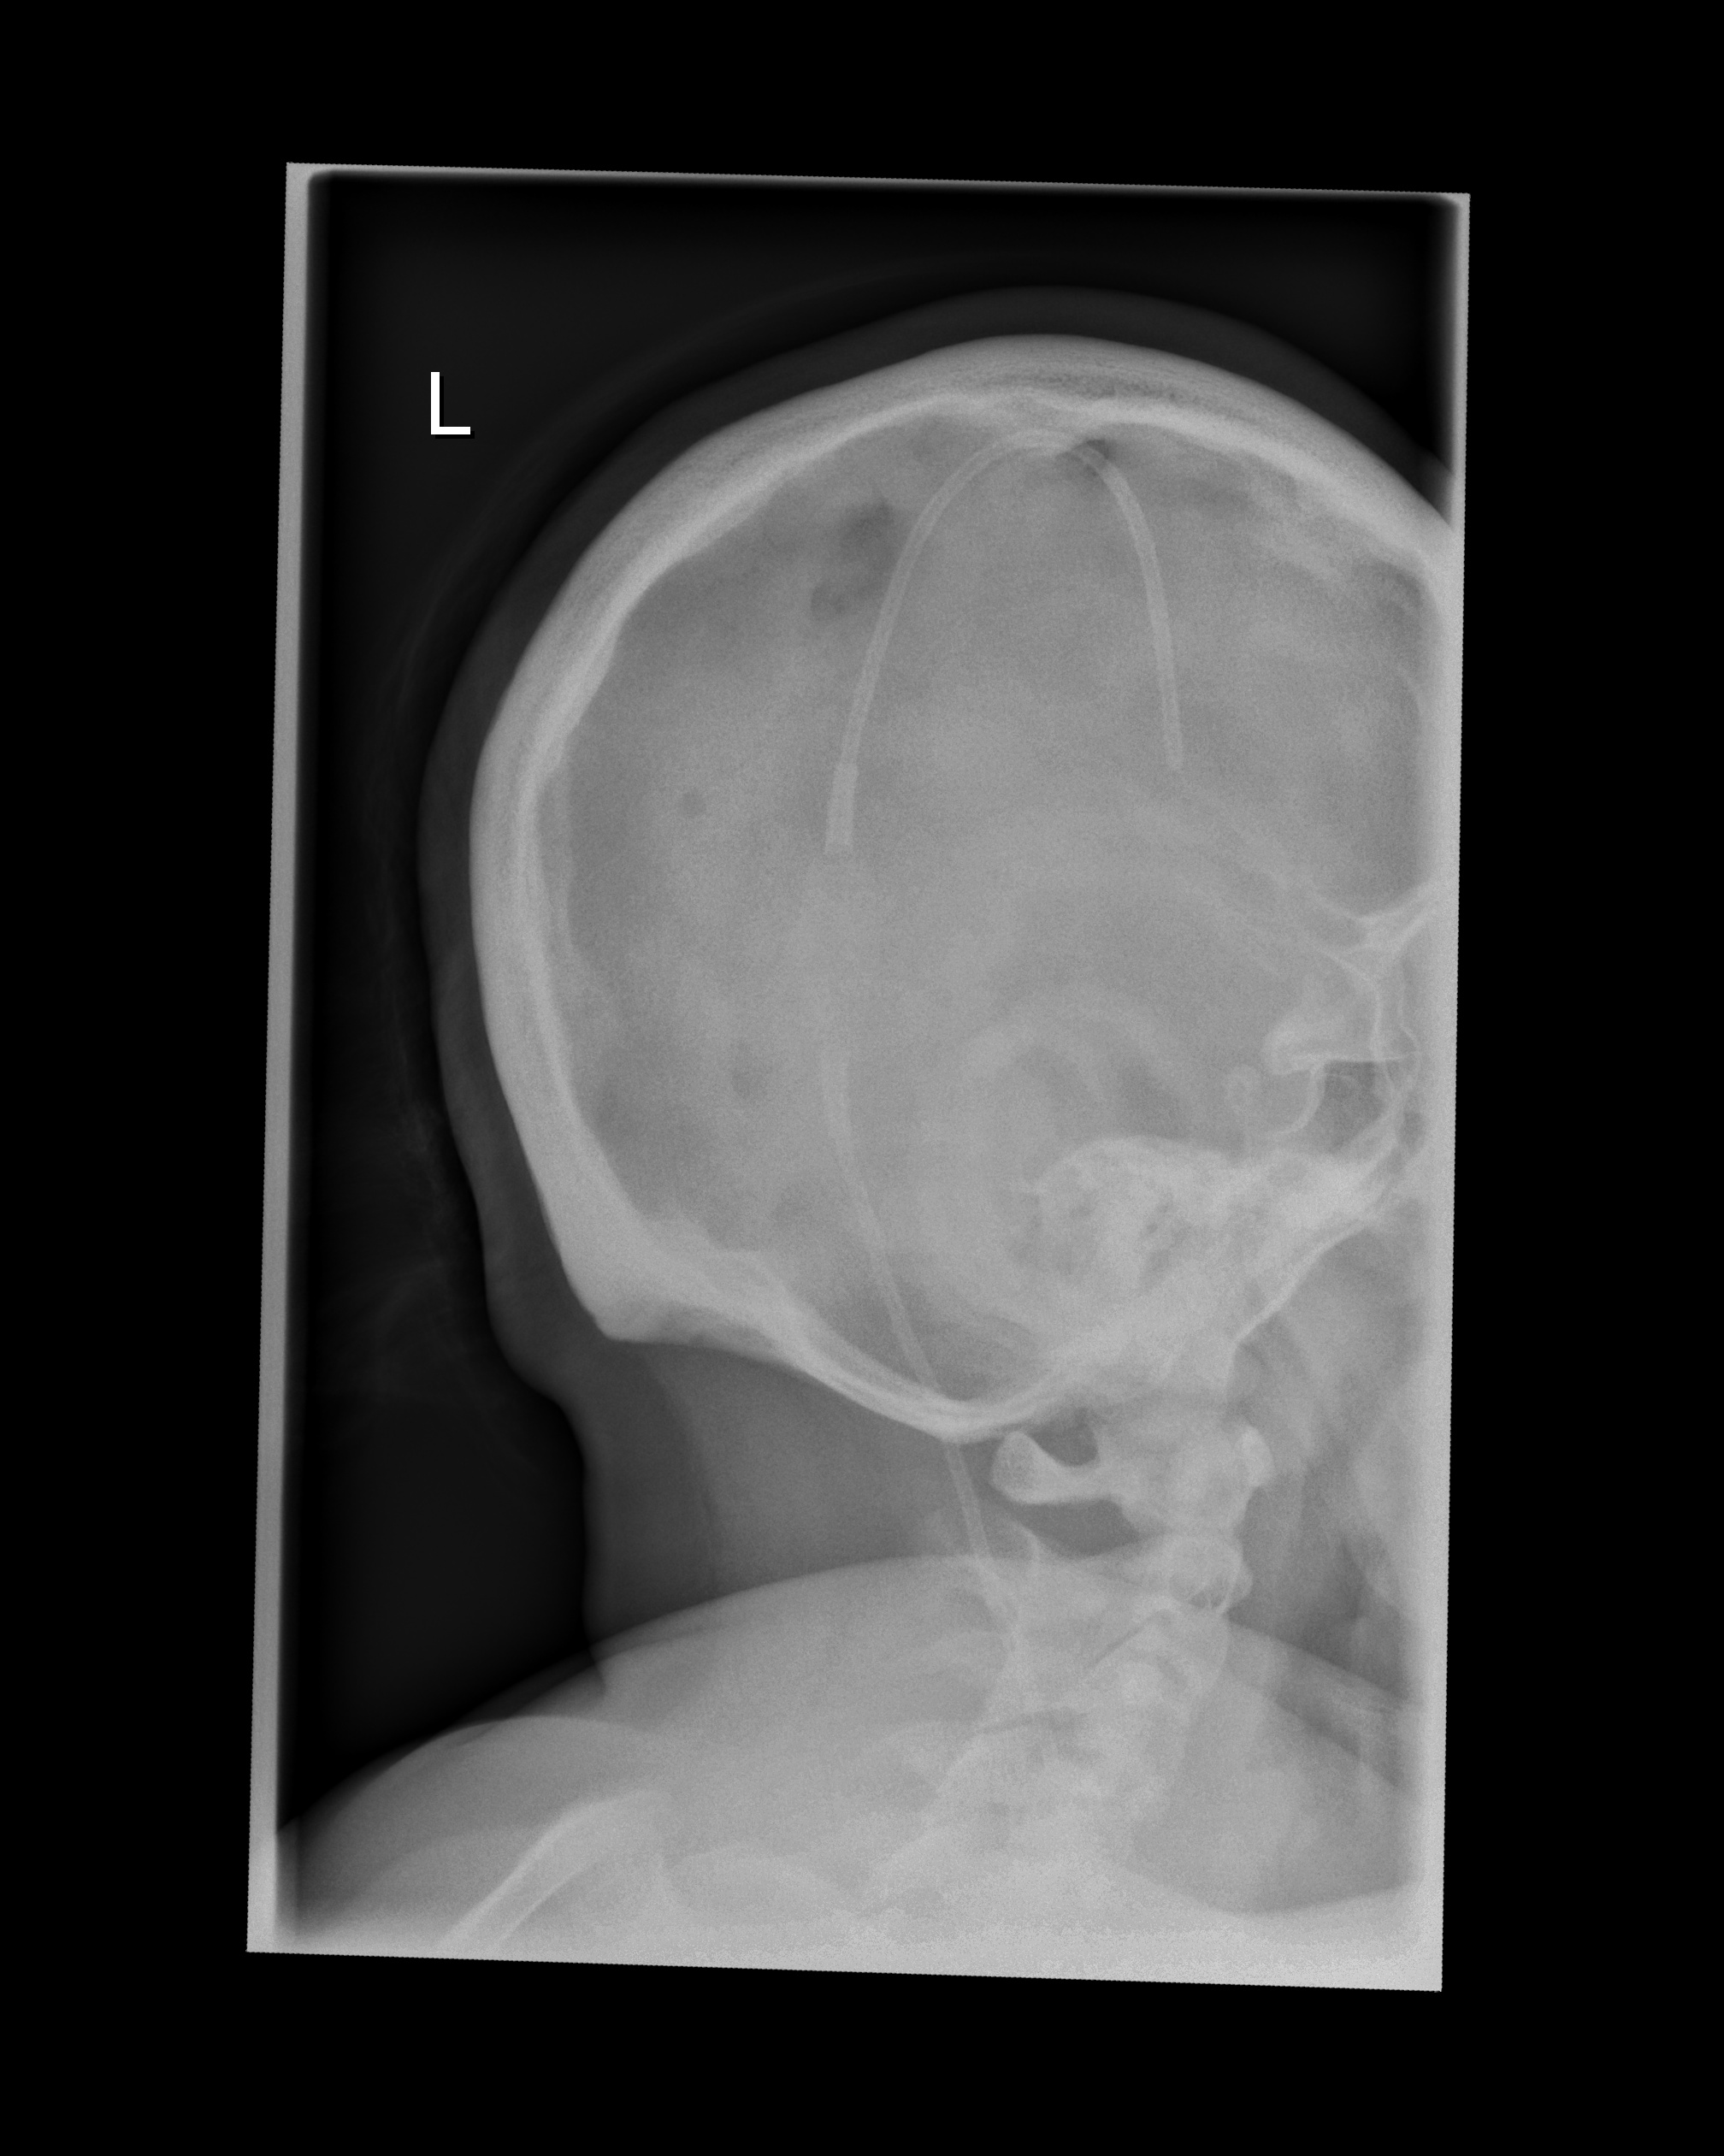Codman Uni-Shunt: (779, 837, 904, 1094)
